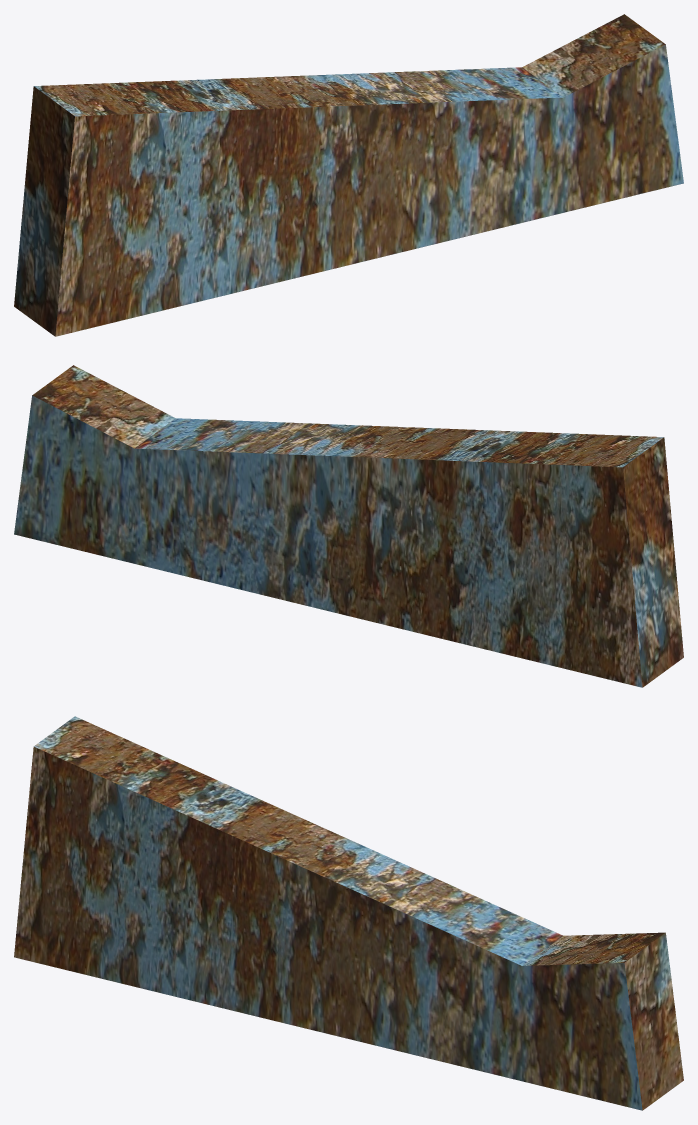
The model's file is muro1.fbx.
The picture shows the model from 3 angles, top to bottom: view 1: azimuth 30°, elevation 25°; view 2: azimuth 150°, elevation 25°; view 3: azimuth 330°, elevation 25°; orthographic projection.
Visible parts, largest first — view 1: Model; view 2: Model; view 3: Model.
Part boxes in pixels (x1=…): Model: x1=14, y1=14, x2=683, y2=336; Model: x1=14, y1=365, x2=683, y2=687; Model: x1=14, y1=716, x2=683, y2=1110.
Bounding box in the file's own units: 3.47 × 1.14 × 0.395.
1 material, 1 textured.
